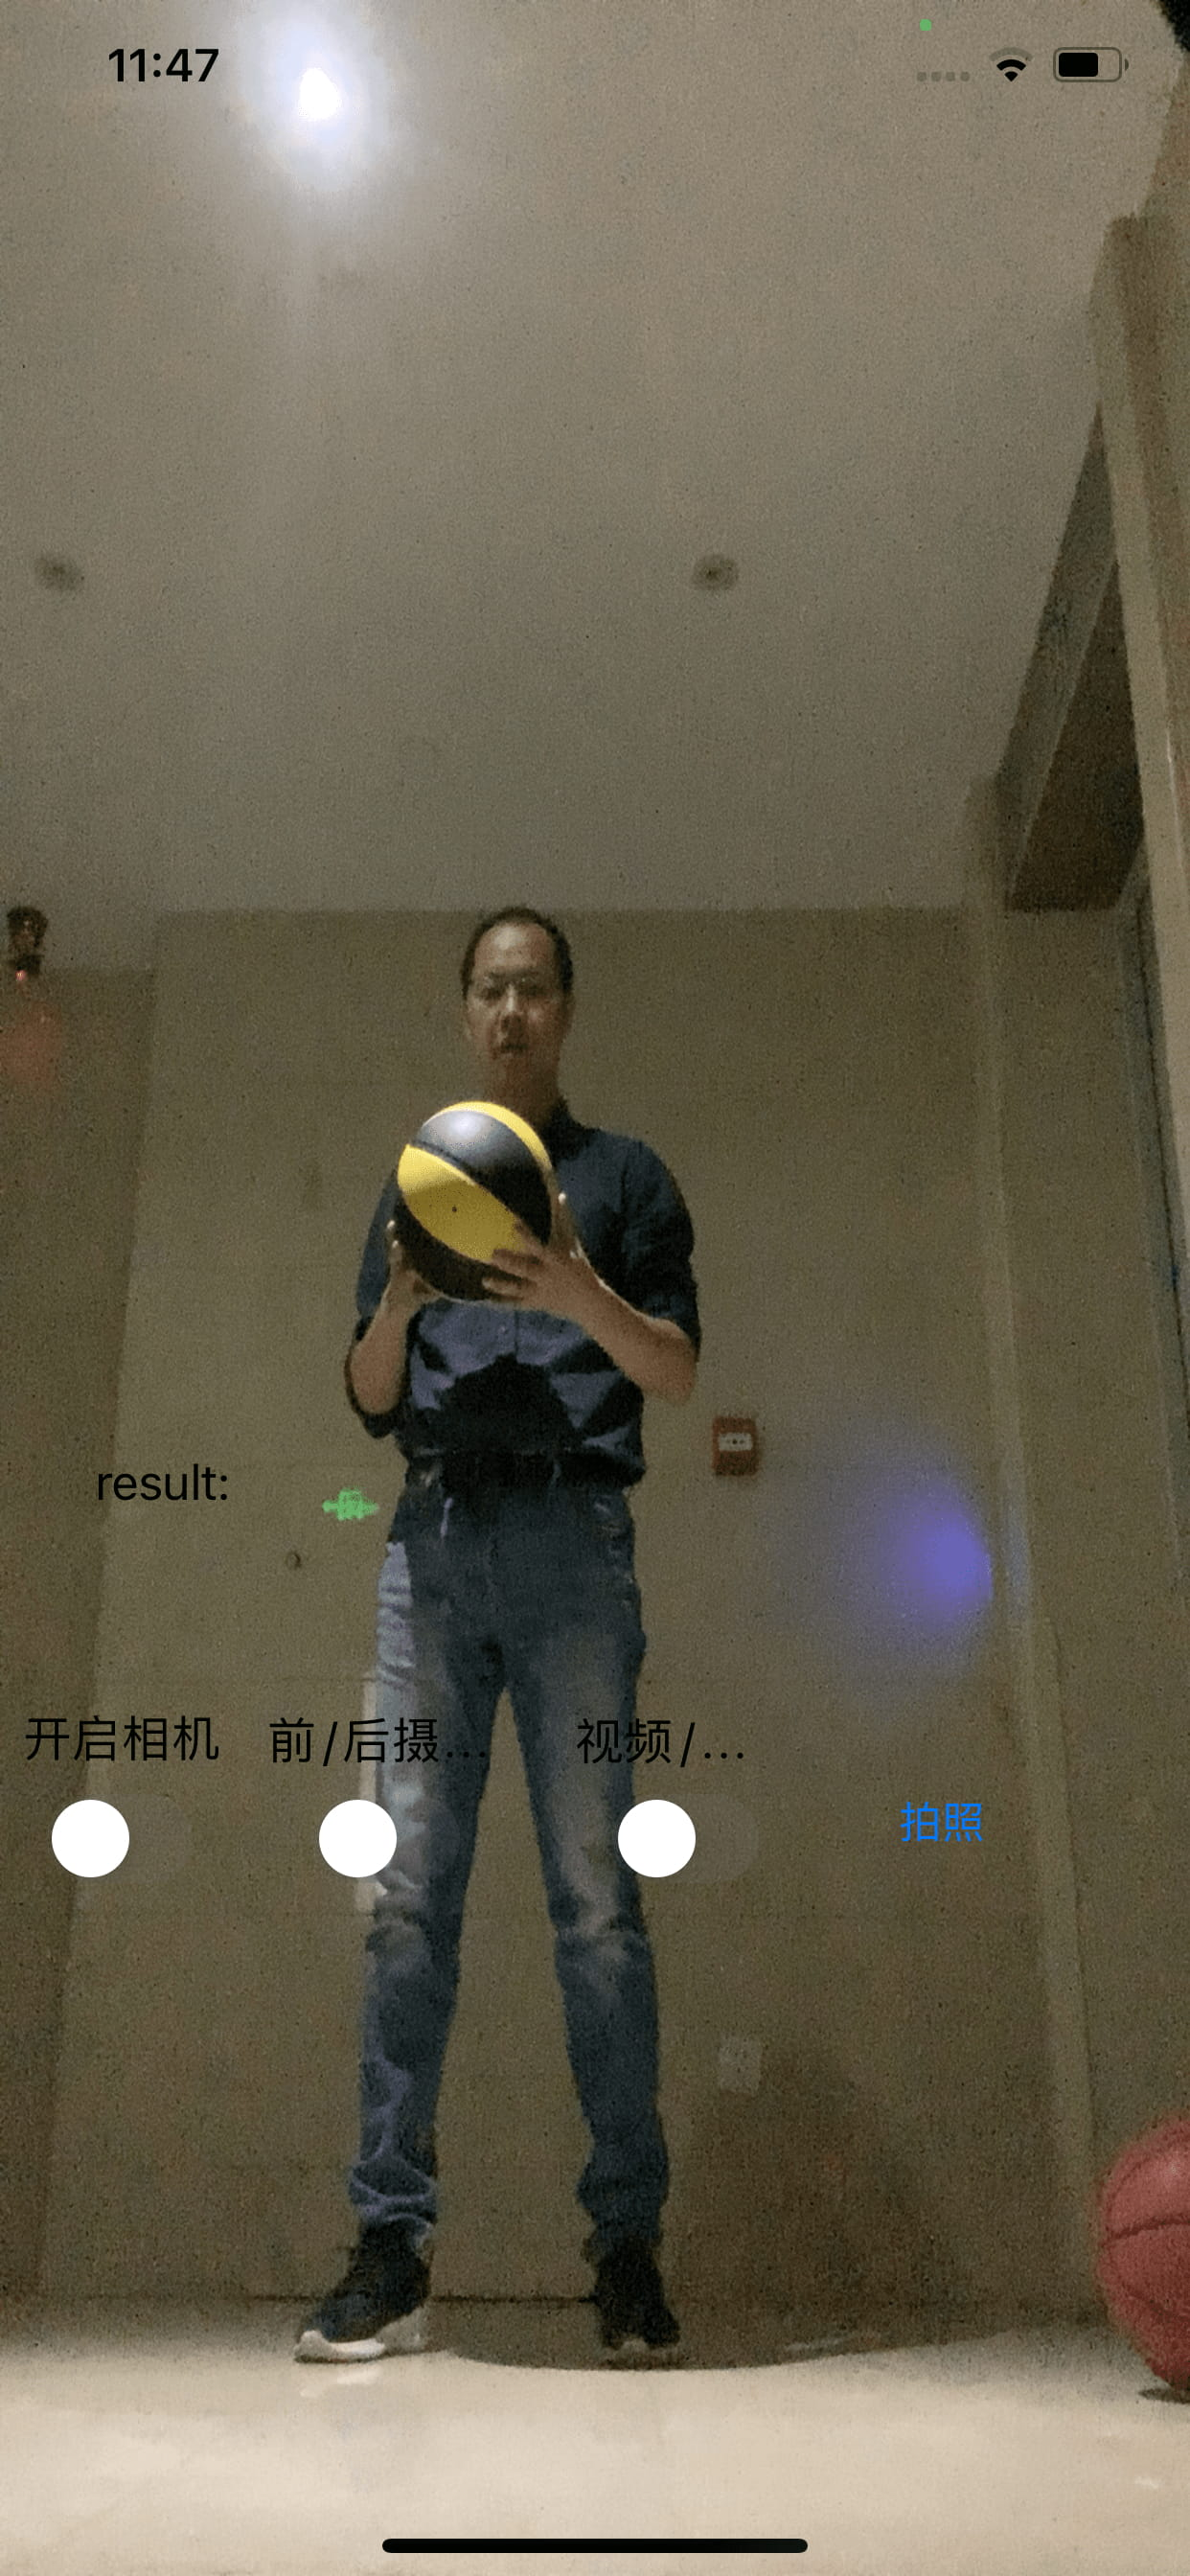ball: (390, 1097, 567, 1314), (1105, 2111, 1190, 2390)
